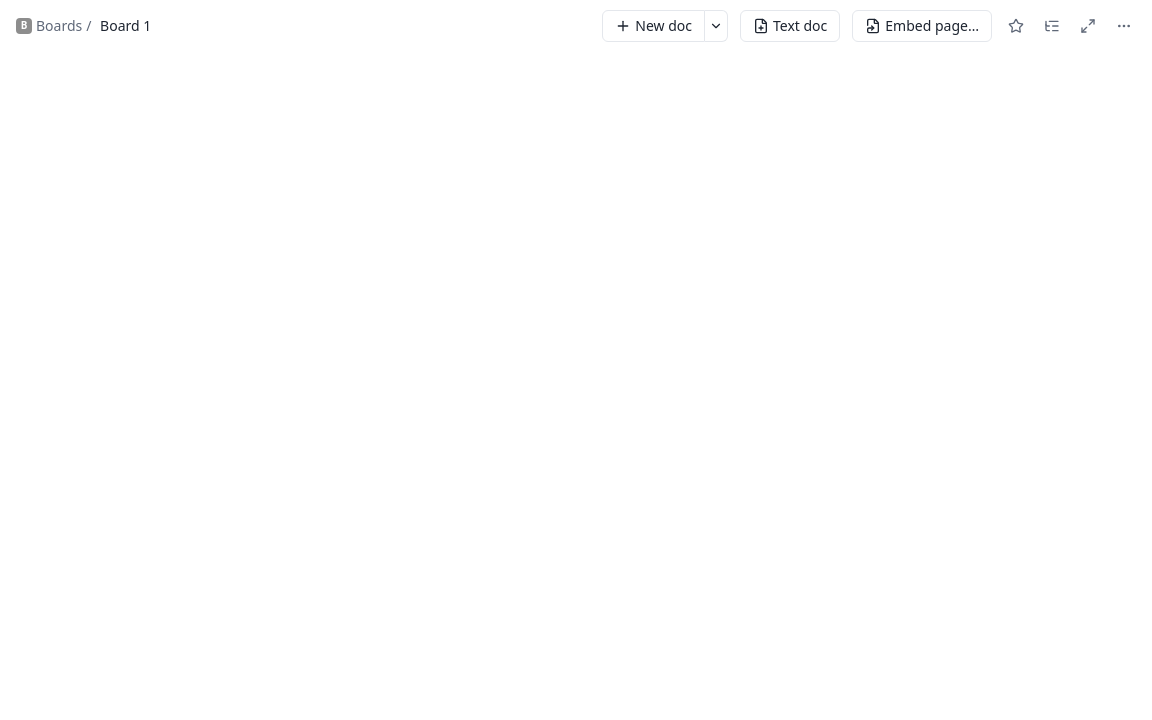
Test: Embed page… › lists documents only, with their path; a click places the page at the centre and focuses the frame
Click the button "Embed page…": (922, 26) [852,10,992,42]
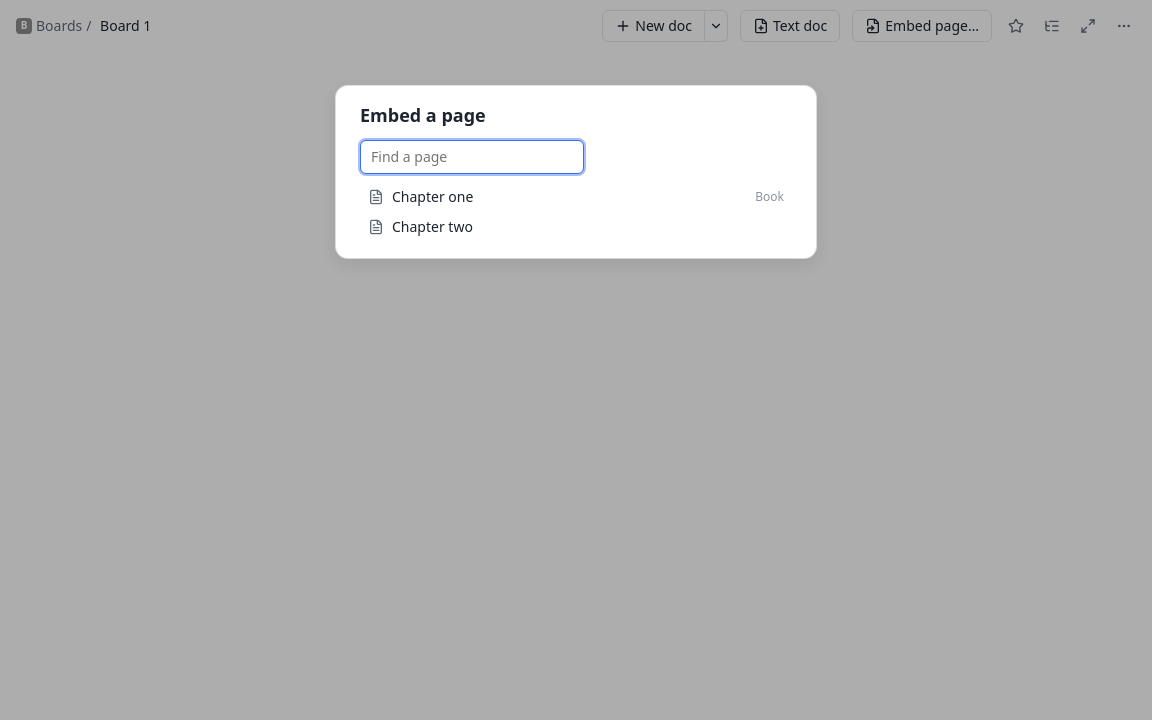
Check: the button "Chapter one Book" is shown, box [360,182,792,212]
In the field with placeholder "Find a page": (472, 157) [360,140,584,174], type "Chap"
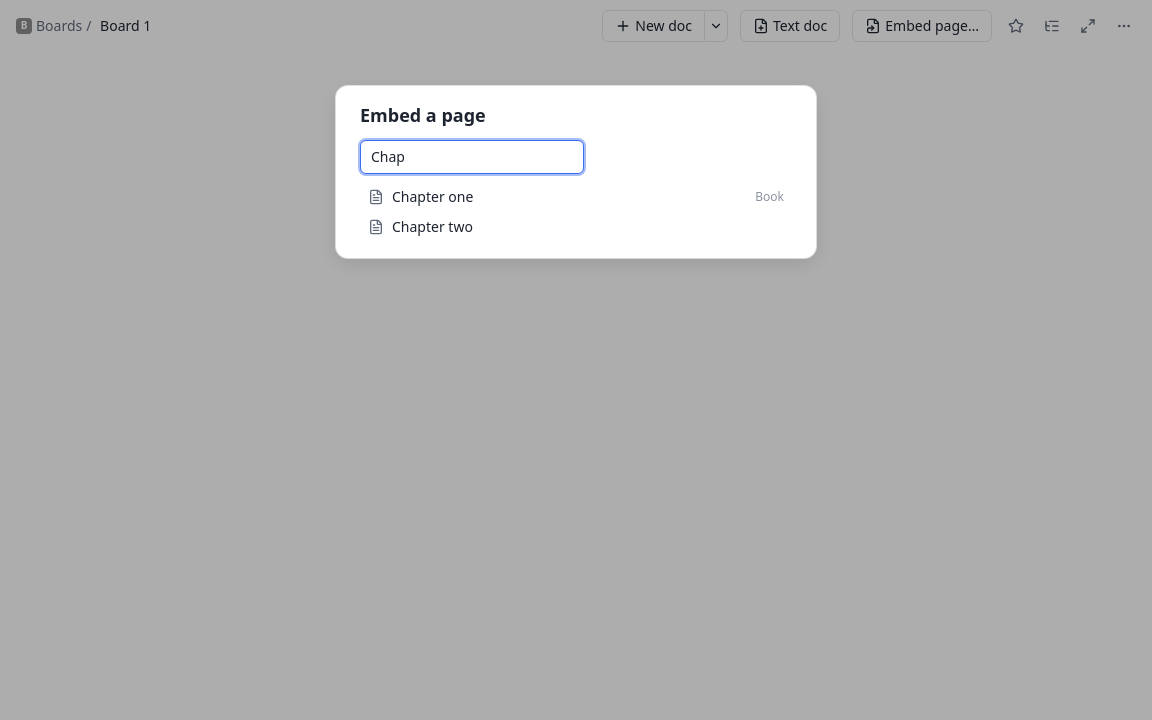
Click the button "Chapter two": (432, 227) [360,212,792,242]
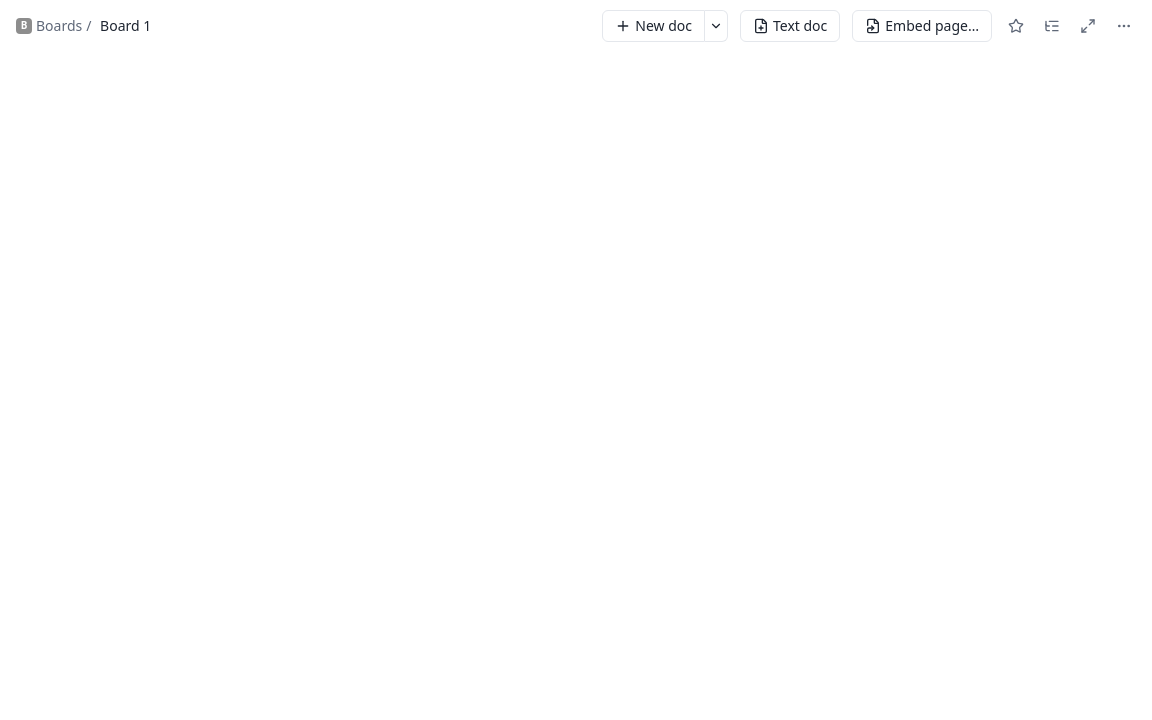
Check: the heading "Embed a page" is gone
